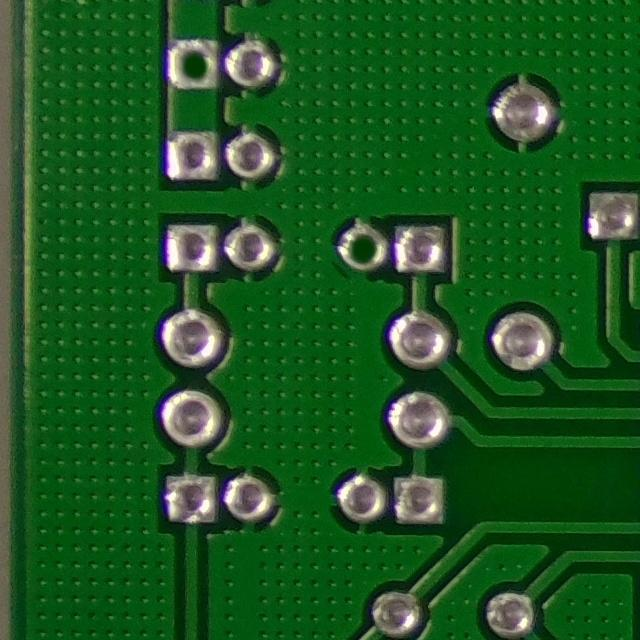missing_hole: (168, 32, 228, 98), (339, 212, 388, 274)
